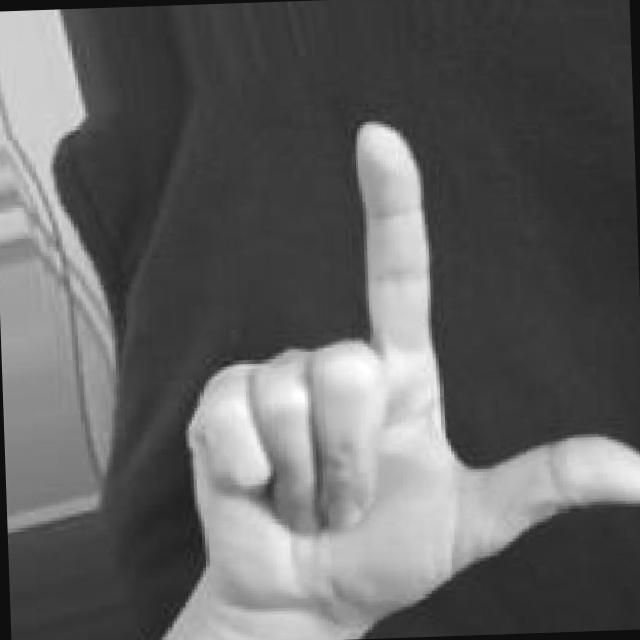L: (158, 99, 640, 629)
